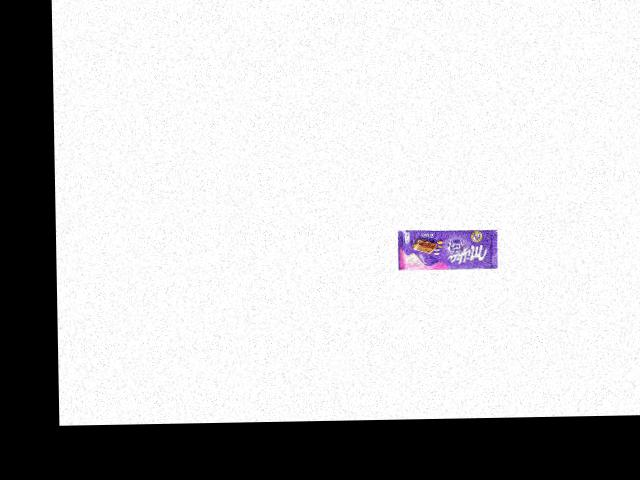chocolate: (398, 227, 498, 271)
